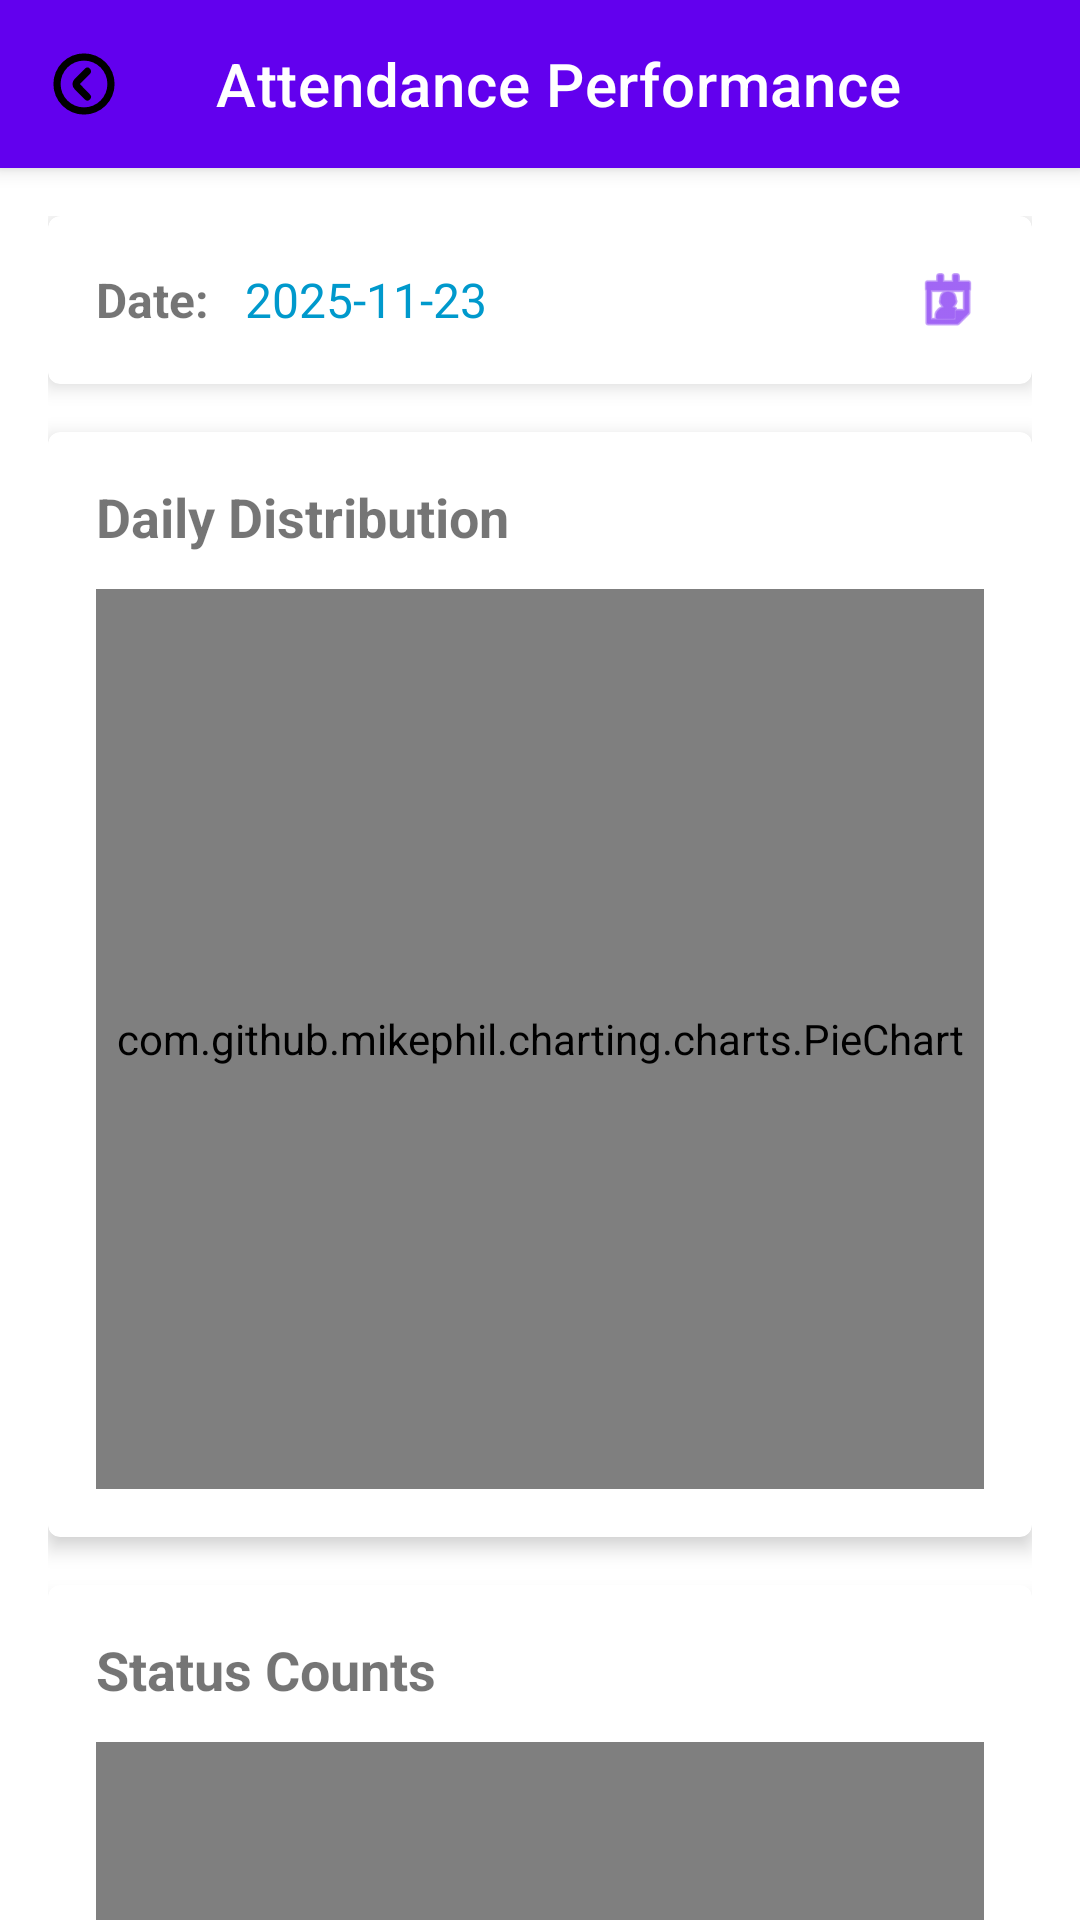

Where to tap for icons on this 1080px×1920px app screen, as (x,y):
calendar: (948,299)
